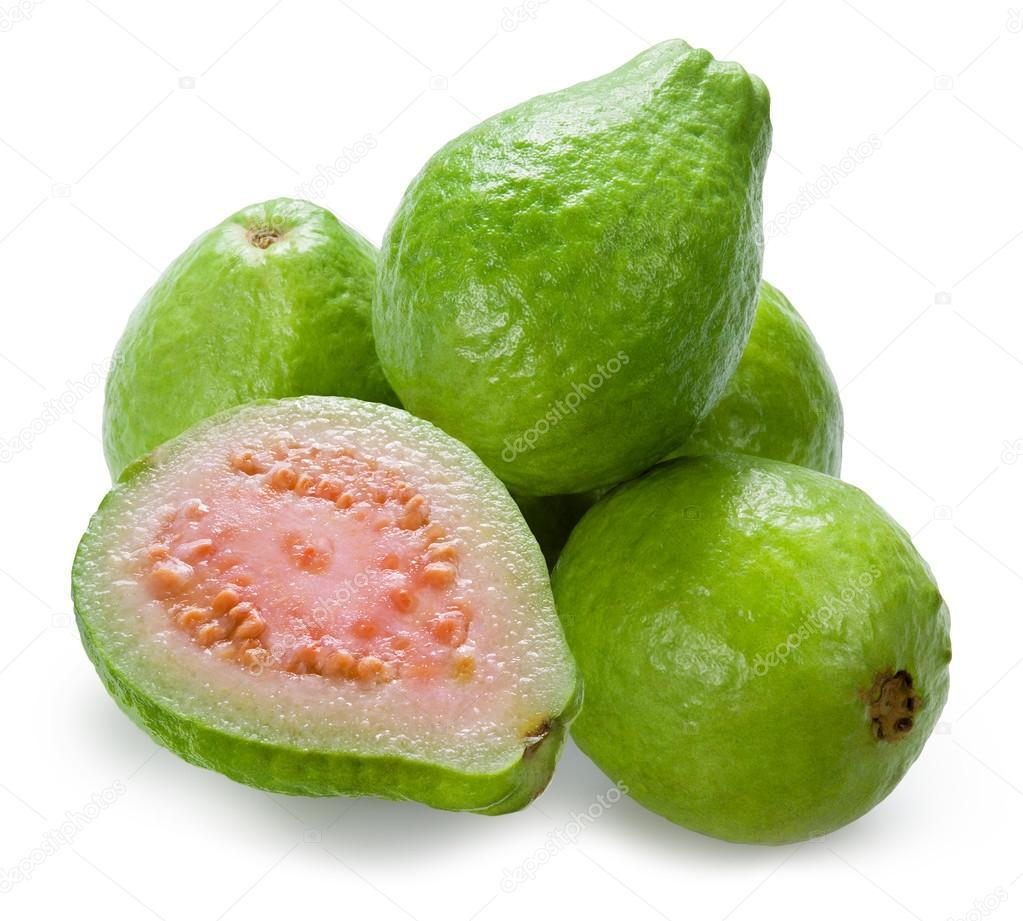oi: (388, 31, 784, 486), (563, 488, 950, 842)
